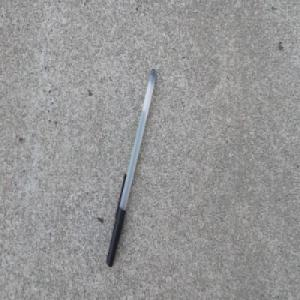Pen: (105, 66, 158, 269)
